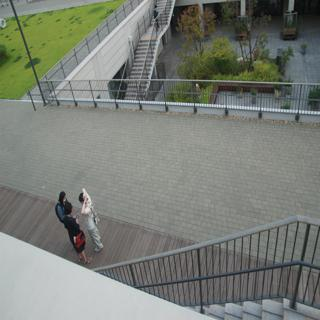person: (73, 180, 113, 249), (62, 201, 89, 261), (54, 183, 73, 225)
